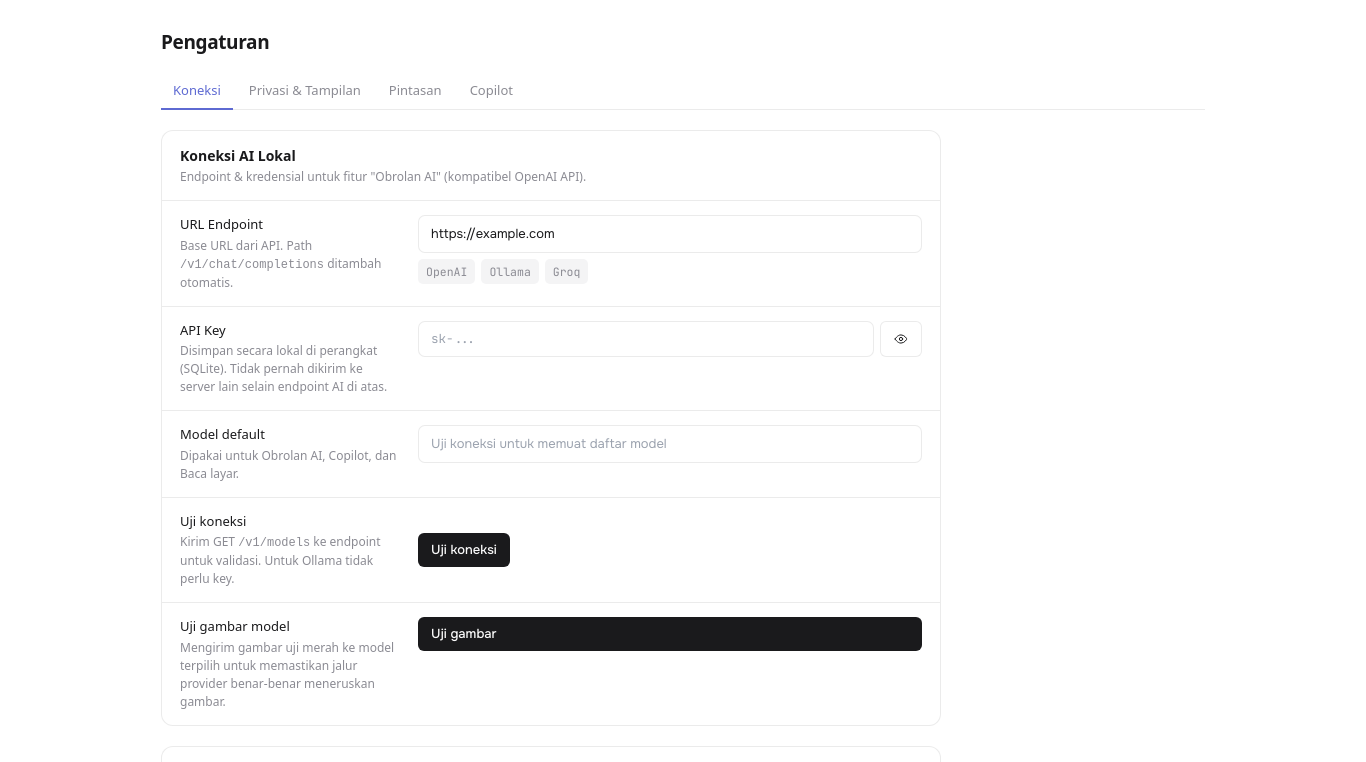
Test: AI model selection › marks a model for screen reading after a successful image test
Step 1. Click the button "Uji koneksi" → (464, 550), box [418,533,510,566]
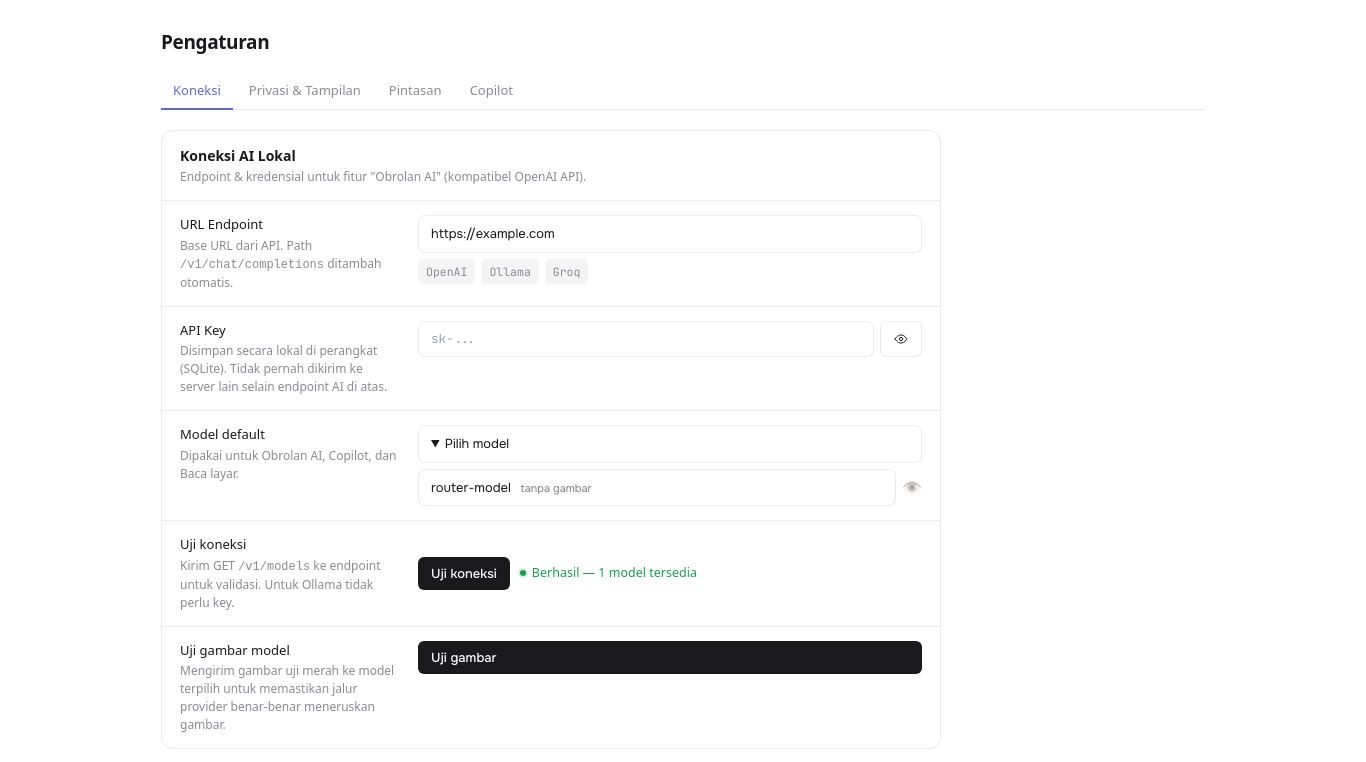
Step 2. Click the button "router-model tanpa gambar" → (473, 487), box [418,468,896,506]
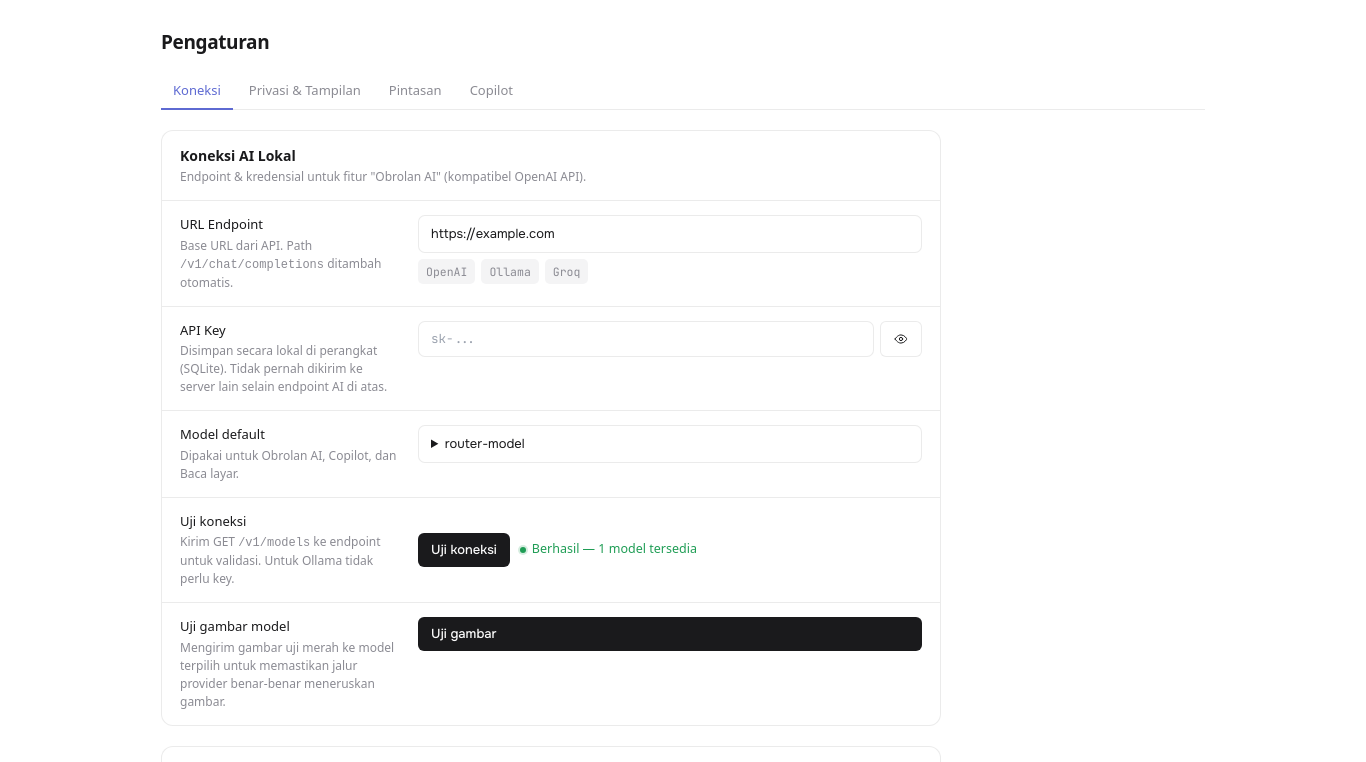
Step 3. Click the button "Uji gambar" → (464, 634), box [418,617,922,650]
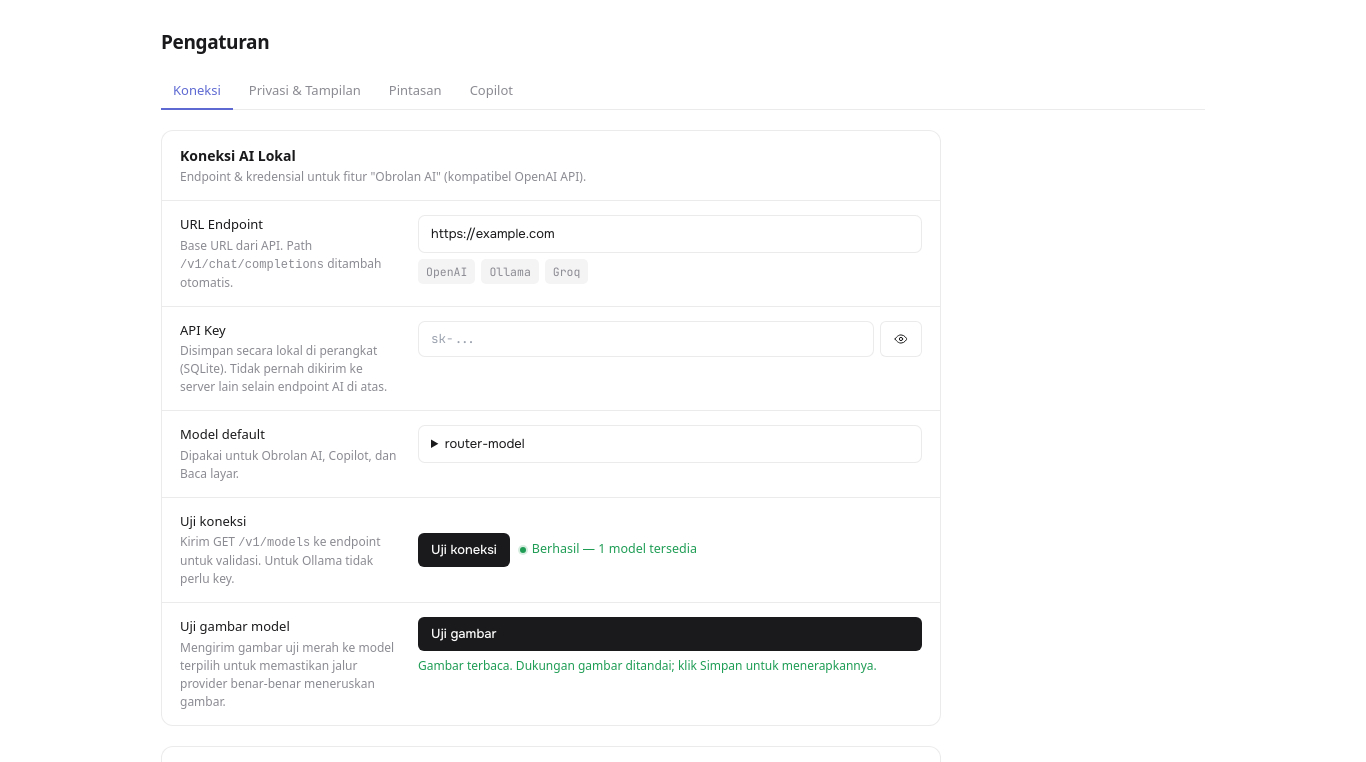
Check: the message shows "klik Simpan", box [418,656,877,674]
